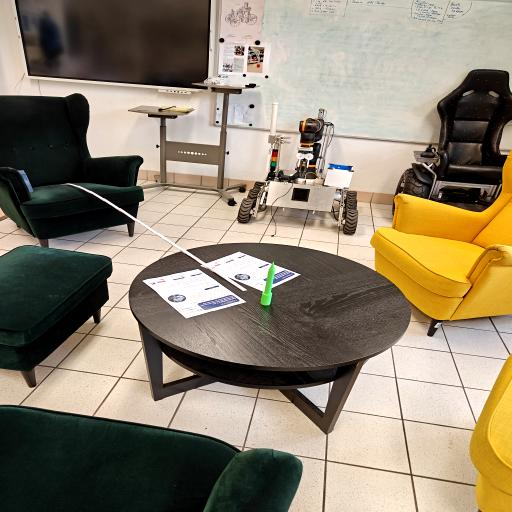Probe-Detection: (260, 262, 275, 305)
